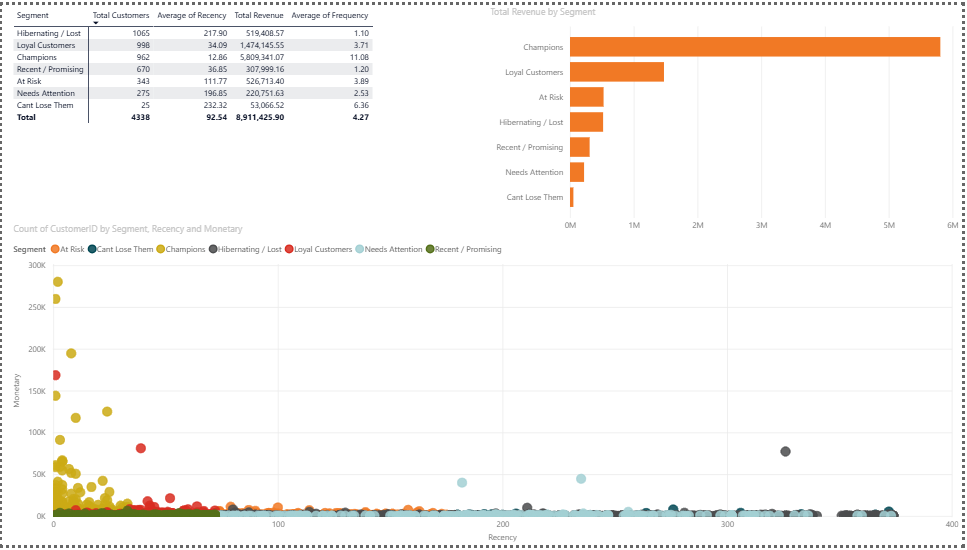

Layout of this report page (visuals, bound fields, positions):
{"tool":"powerbi","page":{"name":"RFM Segment Breakdown","canvas":[1280,720],"ordinal":1},"visuals":[{"type":"scatterChart","fields":{"Series":["rfm_customer_segments (2).Segment"],"X":["rfm_customer_segments (2).Recency"],"Y":["rfm_customer_segments (2).Monetary"]},"box":[10,290,1270,430],"z":0},{"type":"pivotTable","fields":{"Rows":["rfm_customer_segments (2).Segment"],"Values":["rfm_customer_segments (2).Total Customers","Avg(rfm_customer_segments (2).Recency)","cleaned_online_retail.Total Revenue","Avg(rfm_customer_segments (2).Frequency)"]},"box":[9.4,0,1251,281.6],"z":1000},{"type":"clusteredBarChart","fields":{"Category":["rfm_customer_segments (2).Segment"],"Y":["cleaned_online_retail.Total Revenue"]},"box":[646,0,634,310],"z":2000}]}

Visuals, with their boxes in screenshot pixels (x1, y1, x2, y2), scaled from the page's 1280x720 canvas onto the 967x550 screenshot:
scatterChart - rfm_customer_segments (2).Segment x rfm_customer_segments (2).Recency: x1=8, y1=222, x2=966, y2=549
pivotTable - rfm_customer_segments (2).Segment x rfm_customer_segments (2).Total Customers: x1=7, y1=0, x2=952, y2=215
clusteredBarChart - rfm_customer_segments (2).Segment x cleaned_online_retail.Total Revenue: x1=488, y1=0, x2=966, y2=237
